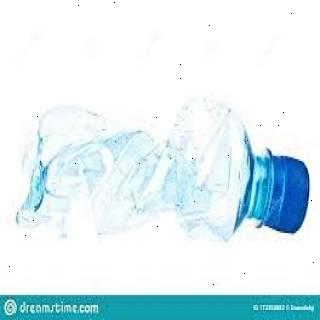Plastic-bottle: (15, 97, 313, 248)
